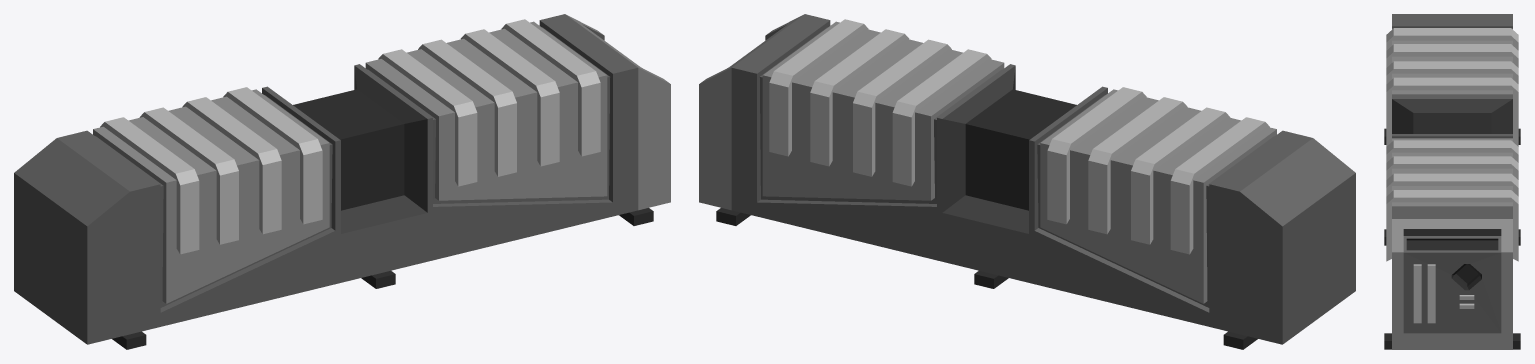
The model's file is tech_A.FBX.
The picture shows the model from 3 angles, left to right: view 1: azimuth 30°, elevation 25°; view 2: azimuth 150°, elevation 25°; view 3: azimuth 270°, elevation 25°; orthographic projection. The views are drawn at different scales.
Parts seen in each view (by area): view 1: tech_A, tech_A_glow; view 2: tech_A, tech_A_glow; view 3: tech_A, tech_A_glow.
Part boxes in pixels (left/top/right/bottom): tech_A: left=14, top=14, right=670, bottom=349; tech_A_glow: left=95, top=27, right=610, bottom=307; tech_A: left=699, top=14, right=1355, bottom=349; tech_A_glow: left=759, top=27, right=1274, bottom=307; tech_A: left=1384, top=14, right=1520, bottom=349; tech_A_glow: left=1413, top=264, right=1474, bottom=323.
Bounding box in the file's own units: 277 × 71.89 × 67.8.
